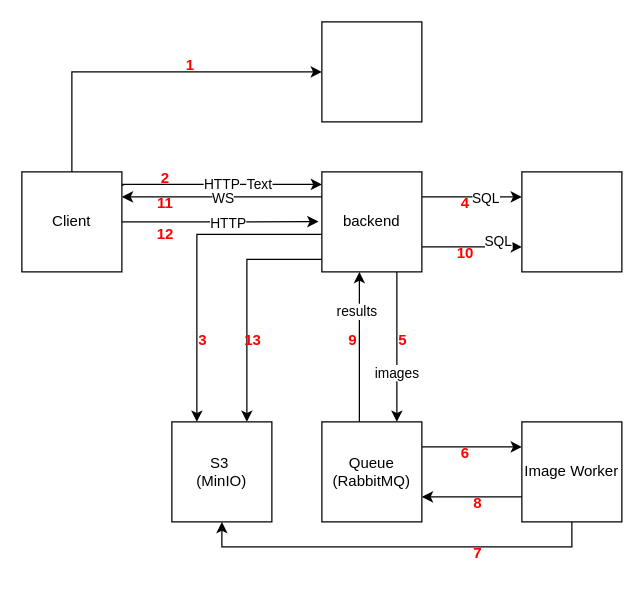
This 644x604 diagram has some shape labels left out. The shapes that lost their labels are listed below. From the top down, each one's box as (x1, y1, x2, y2) in pixels, then its label:
(321, 21, 422, 122): Frontend
(521, 171, 622, 272): Database (MariaDB)
